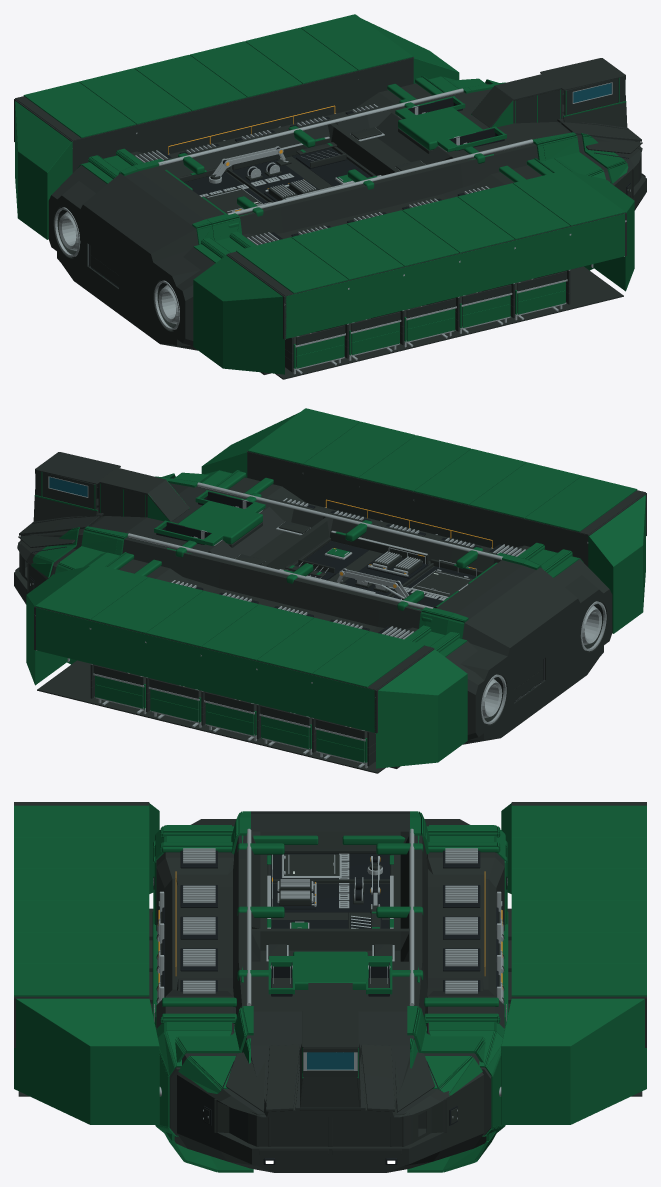
The model's file is pioneer.glb.
The picture shows the model from 3 angles, top to bottom: view 1: azimuth 30°, elevation 25°; view 2: azimuth 150°, elevation 25°; view 3: azimuth 270°, elevation 25°; orthographic projection. The views are drawn at different scales.
Parts seen in each view (by area): view 1: Pioneer saved-master body; view 2: Pioneer saved-master body; view 3: Pioneer saved-master body.
Part boxes in pixels (left/top/right/bottom): Pioneer saved-master body: left=14, top=14, right=646, bottom=379; Pioneer saved-master body: left=14, top=408, right=646, bottom=773; Pioneer saved-master body: left=14, top=802, right=646, bottom=1172.
Bounding box in the file's own units: 72 × 20.35 × 67.6.
